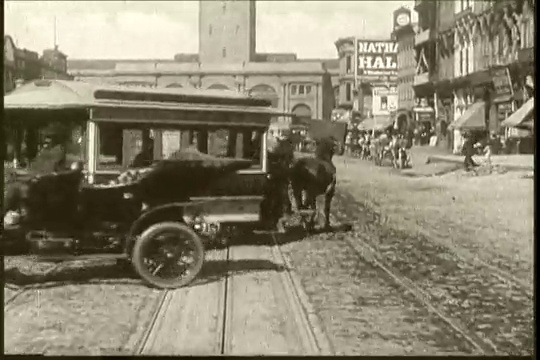horse: (275, 125, 342, 244)
trolley: (0, 69, 278, 248)
